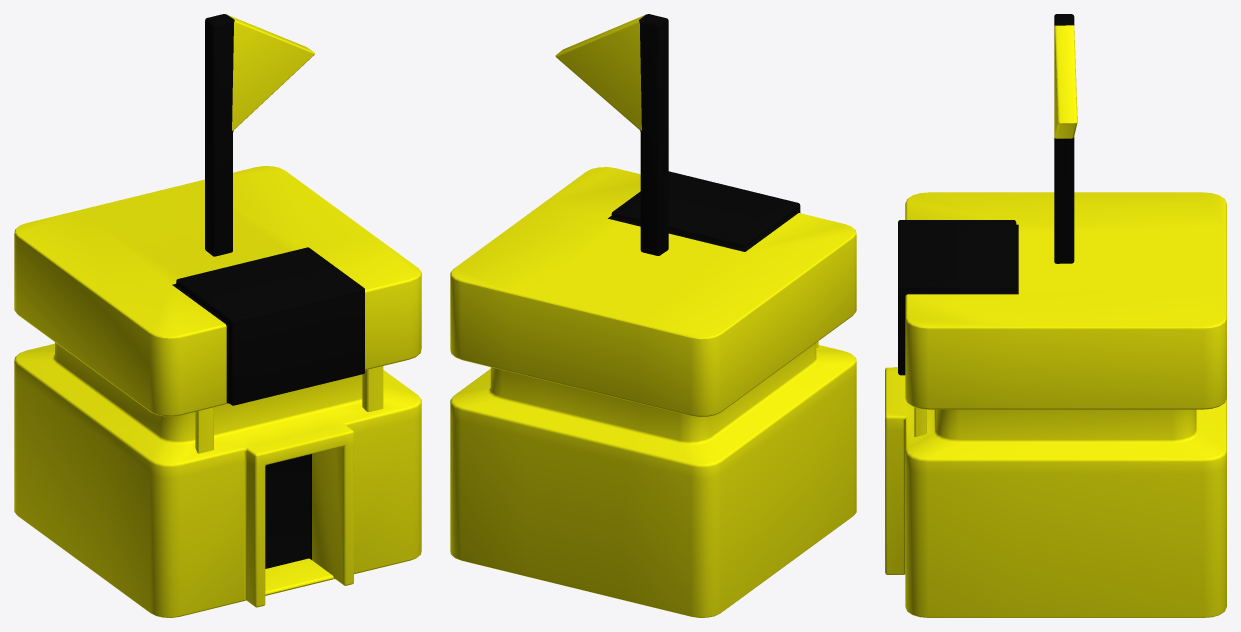
Rendered from House.fbx.
3 views of the same model, side by side, from view 1: azimuth 30°, elevation 25°; view 2: azimuth 150°, elevation 25°; view 3: azimuth 270°, elevation 25° (orthographic). The views are drawn at different scales.
Parts seen in each view (by area): view 1: Cube; view 2: Cube; view 3: Cube.
Boxes of the visible parts, left/top/right/bottom form: Cube: left=14, top=14, right=421, bottom=617; Cube: left=450, top=14, right=856, bottom=617; Cube: left=885, top=14, right=1226, bottom=617.
Bounding box in the file's own units: 588 × 1075 × 625.
1 material, 1 textured.
